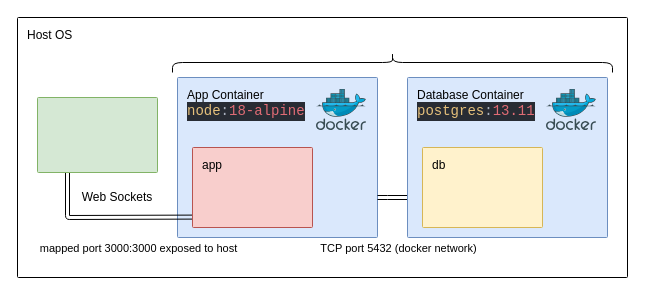
This 645x295 diagram has some shape labels left out. The shapes that lost their labels are listed below. From the top down, each one's centre as x and y in pixels, then its label:
point 392,62: Docker compose
point 97,134: User App
